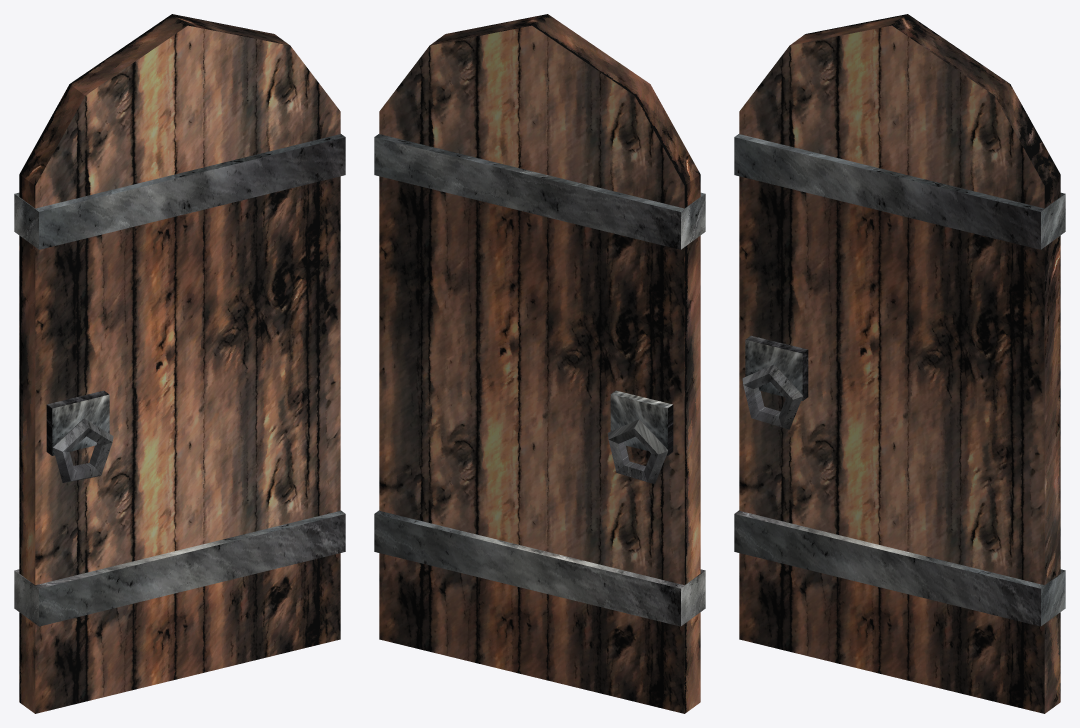
Rendered from Door.fbx.
The picture shows the model from 3 angles, left to right: view 1: azimuth 30°, elevation 25°; view 2: azimuth 150°, elevation 25°; view 3: azimuth 330°, elevation 25°; orthographic projection.
Visible parts, largest first — view 1: Door; view 2: Door; view 3: Door.
Part boxes in pixels (<box>): Door: <box>14,14,345,713</box>; Door: <box>374,14,705,713</box>; Door: <box>734,14,1065,713</box>.
Bounding box in the file's own units: 125 × 254 × 27.77.
Materials: 2 (2 with a texture image).
